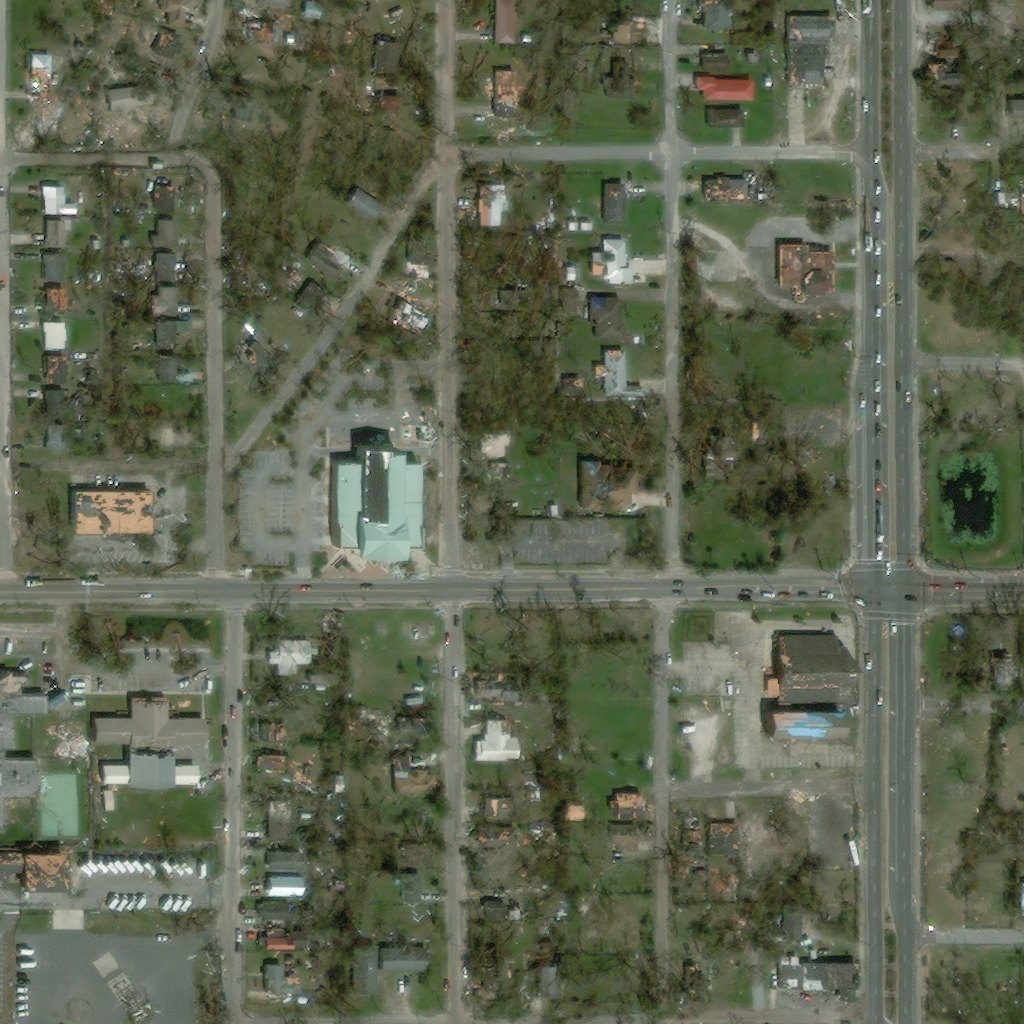destroyed: (105, 971, 146, 1019), (480, 951, 506, 979), (683, 817, 702, 851), (239, 21, 269, 41), (50, 726, 89, 736), (719, 681, 734, 698), (181, 439, 194, 452), (950, 115, 966, 123), (720, 640, 736, 648), (86, 273, 99, 282), (725, 702, 735, 711)
major_damage: (325, 445, 418, 558), (92, 693, 197, 786), (758, 709, 846, 744), (578, 462, 633, 512), (382, 288, 427, 330), (701, 431, 731, 479), (593, 296, 627, 338), (28, 55, 54, 103)
minor_damage: (0, 667, 47, 827), (766, 634, 850, 699), (70, 489, 153, 538), (776, 956, 864, 1002), (780, 242, 839, 301), (786, 16, 837, 84), (589, 239, 649, 284), (0, 851, 61, 891), (592, 350, 639, 396), (305, 239, 350, 282), (17, 218, 79, 248), (472, 719, 516, 761), (392, 756, 434, 792), (263, 961, 298, 1003), (488, 65, 514, 115), (375, 951, 427, 975), (606, 63, 639, 99), (149, 33, 185, 66), (108, 84, 151, 110), (355, 944, 378, 992), (603, 788, 642, 816), (156, 355, 193, 384), (704, 175, 745, 201), (611, 826, 643, 859), (565, 282, 590, 323), (41, 185, 76, 214), (259, 924, 298, 950), (605, 183, 629, 225), (482, 795, 522, 820), (710, 820, 738, 853), (699, 0, 728, 31), (392, 872, 421, 903), (269, 800, 291, 840), (147, 286, 177, 315), (479, 432, 512, 457), (343, 190, 373, 217), (477, 826, 517, 846), (157, 0, 190, 24), (777, 905, 799, 941), (406, 238, 429, 272), (268, 851, 305, 871), (487, 190, 507, 227), (700, 48, 730, 72), (151, 219, 177, 246), (41, 254, 66, 282), (153, 185, 176, 215), (41, 287, 64, 316), (707, 110, 743, 128), (257, 902, 291, 921), (372, 42, 392, 74), (560, 372, 584, 398), (47, 423, 70, 450), (43, 356, 66, 383), (42, 322, 64, 350), (253, 754, 282, 775), (265, 880, 298, 898), (263, 724, 293, 742), (45, 392, 62, 419), (156, 321, 175, 340), (101, 791, 115, 811), (565, 267, 577, 281), (483, 462, 501, 471), (287, 958, 296, 971), (568, 221, 578, 229), (590, 202, 598, 209), (769, 80, 776, 88), (580, 222, 589, 228), (810, 949, 816, 957)
no_damage: (692, 74, 753, 101), (493, 0, 517, 43)
